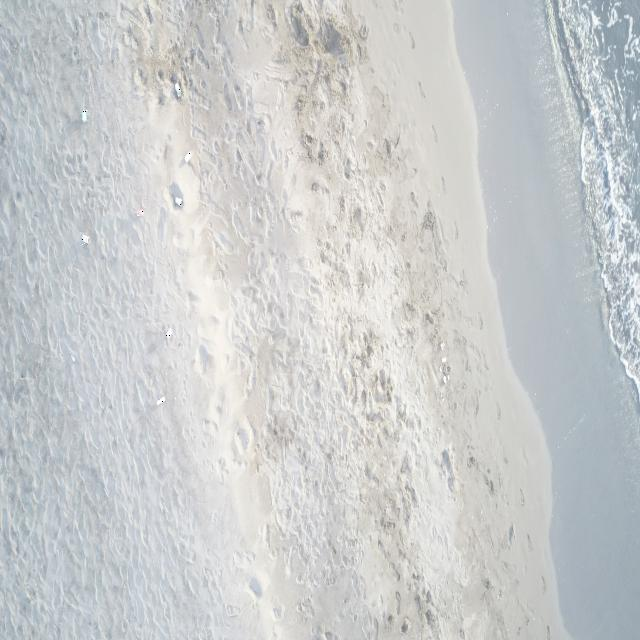tin-and-aluminum-cans: (82, 233, 90, 246), (173, 197, 183, 207), (156, 396, 166, 406), (81, 109, 88, 123), (184, 152, 192, 164), (135, 208, 144, 218), (175, 84, 181, 96), (166, 326, 172, 338)
